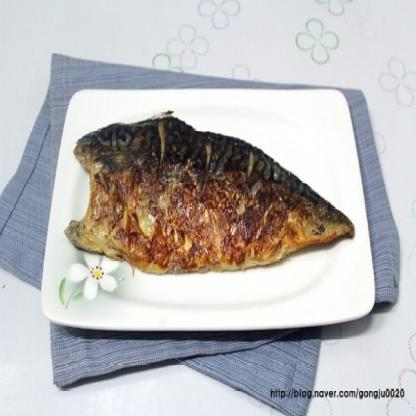Peixe: (45, 110, 369, 288)
